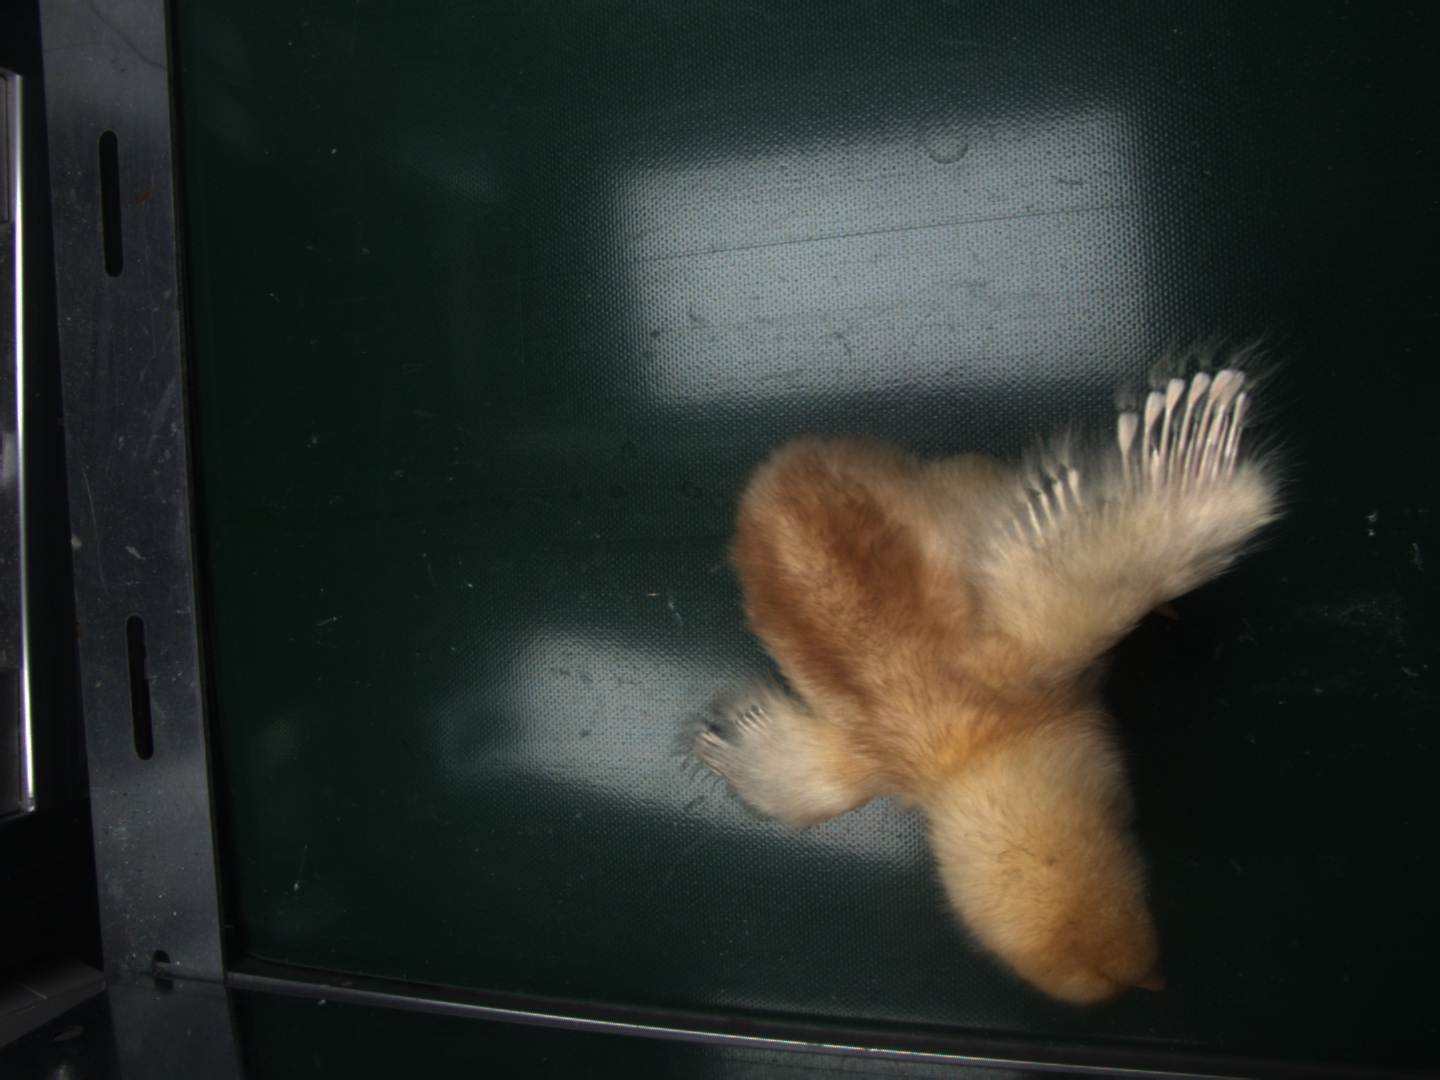female: (1129, 371, 1252, 478)
